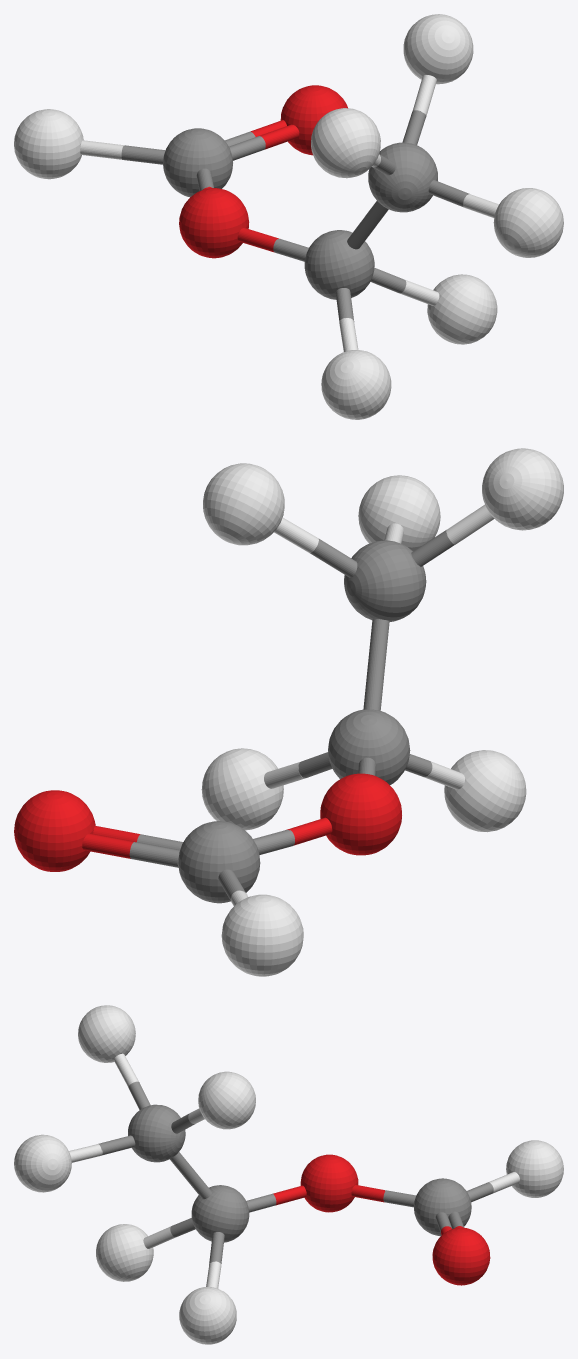
File: ethilformate.fbx
3 views of the same model, one above another, from view 1: azimuth 30°, elevation 25°; view 2: azimuth 150°, elevation 25°; view 3: azimuth 270°, elevation 25° (orthographic). The views are drawn at different scales.
Visible parts, largest first — view 1: Sphere.013, Sphere.004, Sphere.006, Sphere.014, Sphere.007, Sphere.003, Sphere.002, Sphere.001, Sphere.000, Sphere.005, Sphere.008, Cylinder.025 (+12 smaller); view 2: Sphere.014, Sphere.007, Sphere.006, Sphere.003, Sphere.008, Sphere.000, Sphere.013, Sphere.002, Sphere.005, Sphere.004, Sphere.001, Cylinder.010 (+10 smaller); view 3: Sphere.007, Sphere.008, Sphere.004, Sphere.002, Sphere.006, Sphere.013, Sphere.003, Sphere.014, Sphere.001, Sphere.000, Sphere.005, Cylinder.002.
Boxes of the visible parts, x1,y1,x2,y2 form: Sphere.013: [321, 350, 391, 419]; Sphere.004: [493, 188, 563, 257]; Sphere.006: [311, 108, 380, 178]; Sphere.014: [14, 109, 83, 179]; Sphere.007: [403, 14, 473, 84]; Sphere.003: [179, 188, 249, 258]; Sphere.002: [427, 274, 497, 344]; Sphere.001: [304, 230, 374, 299]; Sphere.000: [368, 142, 437, 212]; Sphere.005: [163, 128, 232, 197]; Sphere.008: [280, 85, 347, 155]; Cylinder.025: [121, 145, 165, 164]; Sphere.014: [221, 894, 303, 976]; Sphere.007: [203, 463, 284, 545]; Sphere.006: [482, 448, 563, 530]; Sphere.003: [320, 773, 401, 855]; Sphere.008: [14, 790, 95, 871]; Sphere.000: [344, 540, 426, 621]; Sphere.013: [444, 750, 526, 832]; Sphere.002: [201, 748, 283, 830]; Sphere.005: [178, 821, 260, 903]; Sphere.004: [358, 475, 440, 551]; Sphere.001: [328, 709, 410, 784]; Cylinder.010: [129, 842, 179, 867]; Sphere.007: [198, 1071, 255, 1129]; Sphere.008: [432, 1227, 490, 1285]; Sphere.004: [14, 1134, 71, 1192]; Sphere.002: [179, 1287, 236, 1344]; Sphere.006: [78, 1005, 135, 1062]; Sphere.013: [96, 1224, 153, 1281]; Sphere.003: [300, 1154, 358, 1212]; Sphere.014: [506, 1140, 563, 1197]; Sphere.001: [191, 1185, 249, 1242]; Sphere.000: [128, 1104, 185, 1162]; Sphere.005: [414, 1178, 471, 1236]; Cylinder.002: [98, 1135, 135, 1155].
Bounding box in the file's own units: 70.55 × 76 × 144.
